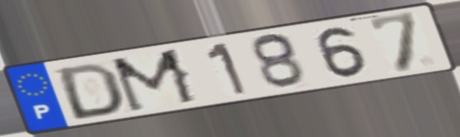1: (203, 41, 250, 98)
6: (315, 25, 371, 79)
7: (366, 10, 423, 75)
8: (249, 32, 308, 92)
D: (56, 61, 126, 122)
M: (107, 46, 202, 116)
